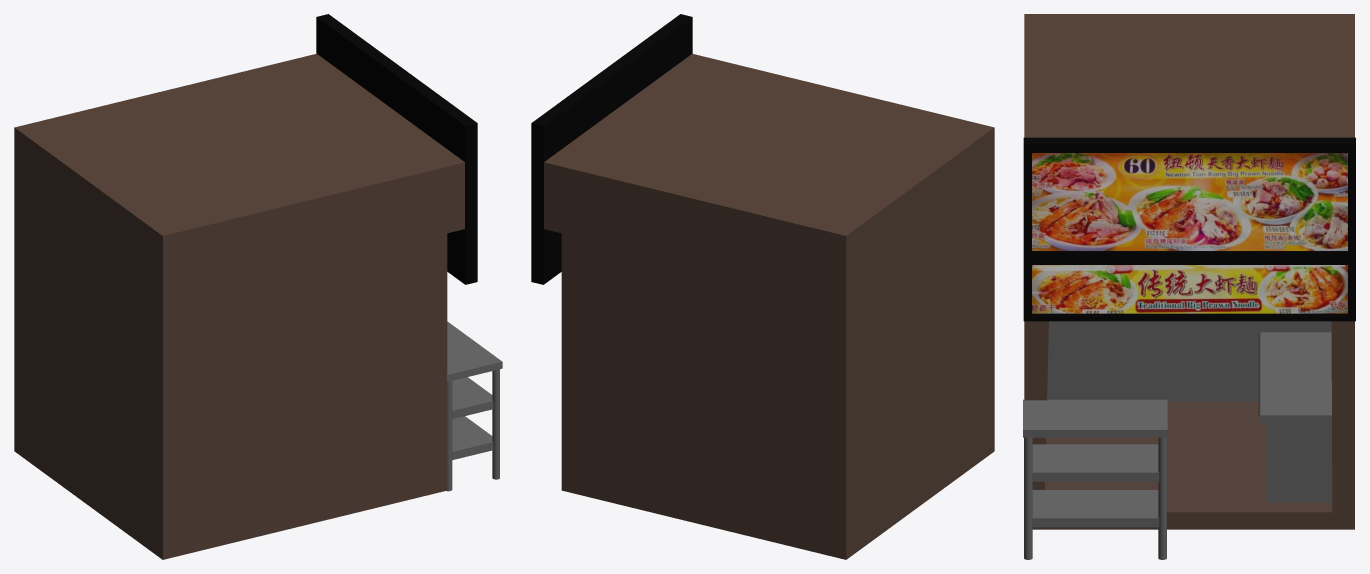
The model's file is tianxiangbigprawnnoodle_updated.fbx.
3 renders of one model, left to right at view 1: azimuth 30°, elevation 25°; view 2: azimuth 150°, elevation 25°; view 3: azimuth 270°, elevation 25°, orthographic. The views are drawn at different scales.
Visible parts, largest first — view 1: MainStructure, TitleBackGround, cupboard, TitleBackGround.001; view 2: MainStructure, TitleBackGround, TitleBackGround.001; view 3: MainStructure, Title, cupboard.001, cupboard, Title.001, cupboard.002, TitleBackGround, TitleBackGround.001.
Boxes of the visible parts, x1,y1,x2,y2 form: MainStructure: (14,53,464,559); TitleBackGround: (316,14,477,230); cupboard: (446,321,502,491); TitleBackGround.001: (447,228,477,284); MainStructure: (544,53,994,559); TitleBackGround: (531,14,692,230); TitleBackGround.001: (531,228,561,284); MainStructure: (1024,14,1354,529); Title: (1032,153,1347,250); cupboard.001: (1047,321,1331,401); cupboard: (1023,399,1167,559); Title.001: (1032,265,1347,313); cupboard.002: (1258,332,1332,502); TitleBackGround: (1023,137,1355,260); TitleBackGround.001: (1023,260,1355,321).
Bounding box in the file's own units: 628 × 640 × 479.
